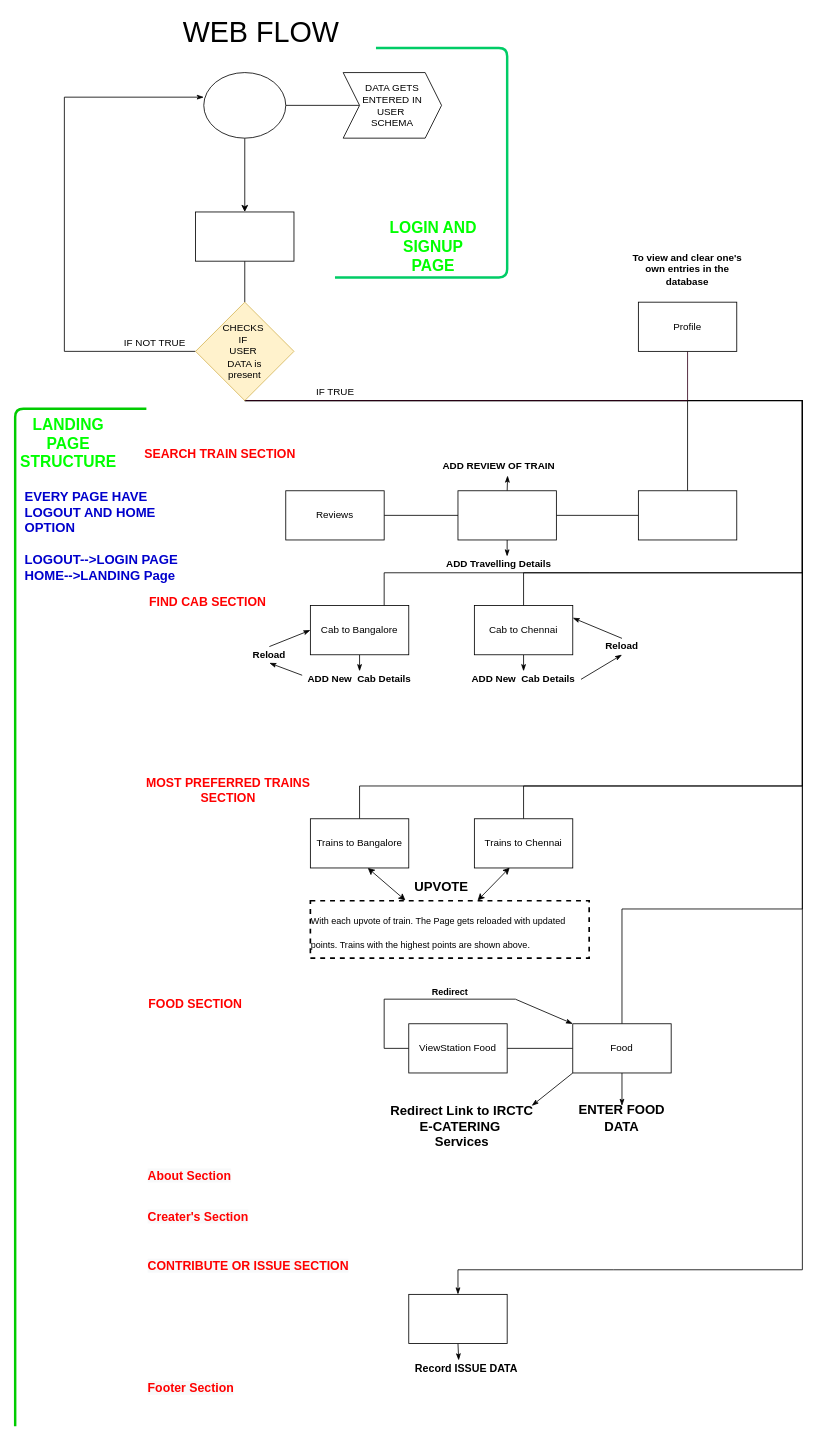
This 823x1442 diagram has some shape labels left out. The shapes that lost their labels are listed below. From the top down, each one's box as (x1, y1, x2, y2) in pixels, then its label:
(203, 72, 286, 138): SIGN_UP
(195, 211, 294, 261): LOGIN
(457, 490, 556, 540): Travelers Details
(638, 490, 737, 540): Search Train
(408, 1294, 507, 1344): CONTRIBUTION FORM
